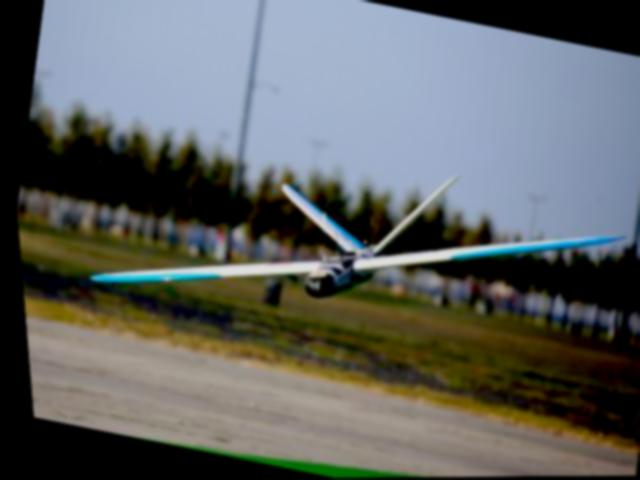uav: (71, 98, 640, 391)
